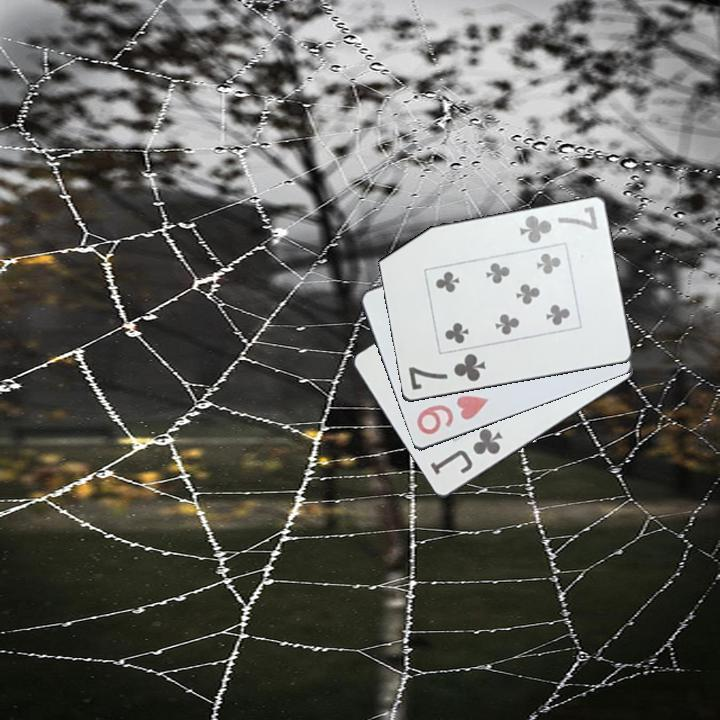7c: (516, 203, 601, 247), (404, 350, 489, 393)
9h: (413, 392, 494, 438)
Jc: (426, 425, 506, 479)
